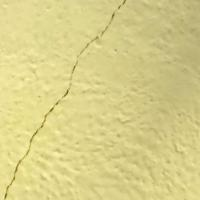crack: (0, 4, 128, 199)
